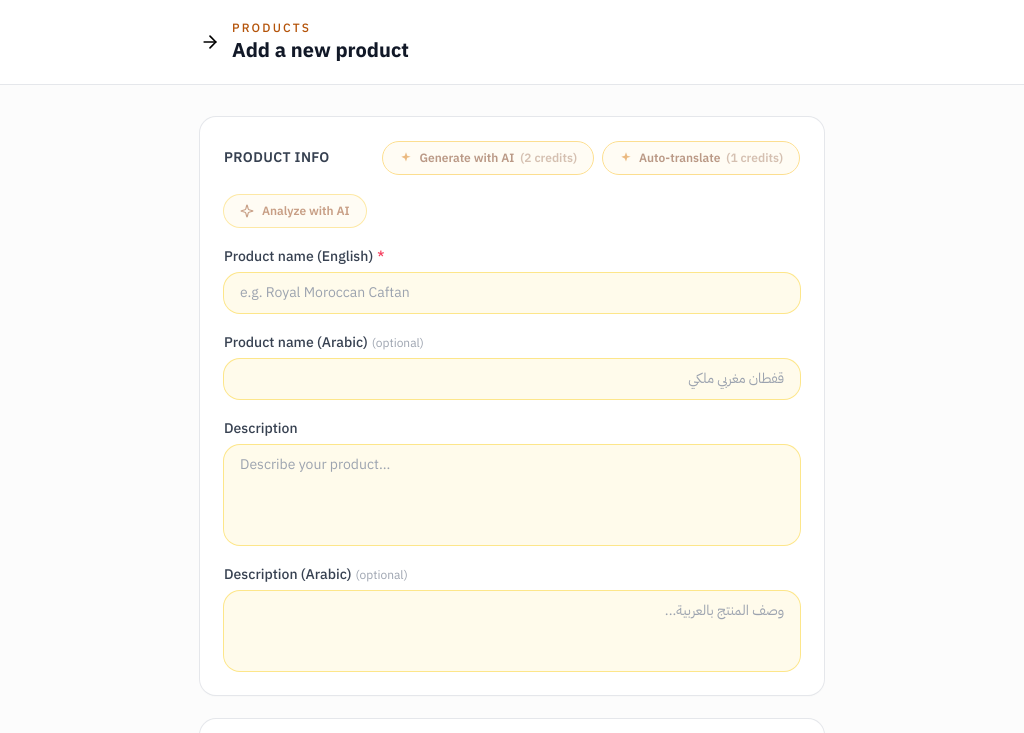
Test case: SellerNewProductPage — AI features › discards generated content when Discard is clicked
In the field labelled "Product name (English)*": (512, 293) [224,273,800,313], type "My Original Name"
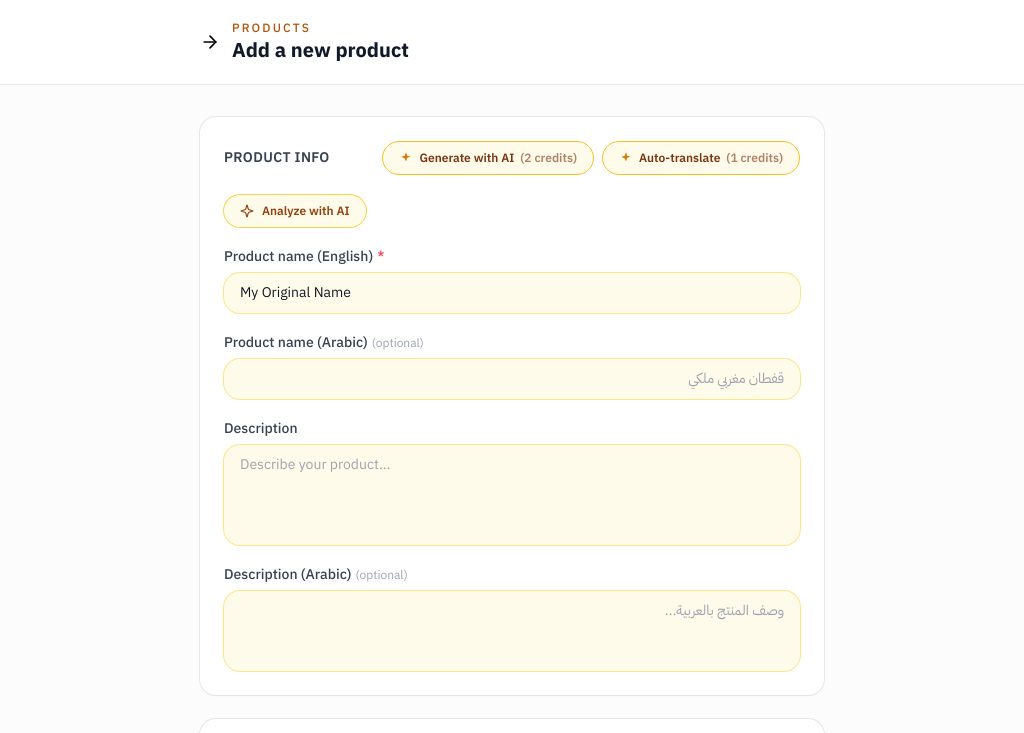
Click the button "Generate with AI (2 credits)": (488, 158) [382,141,594,175]
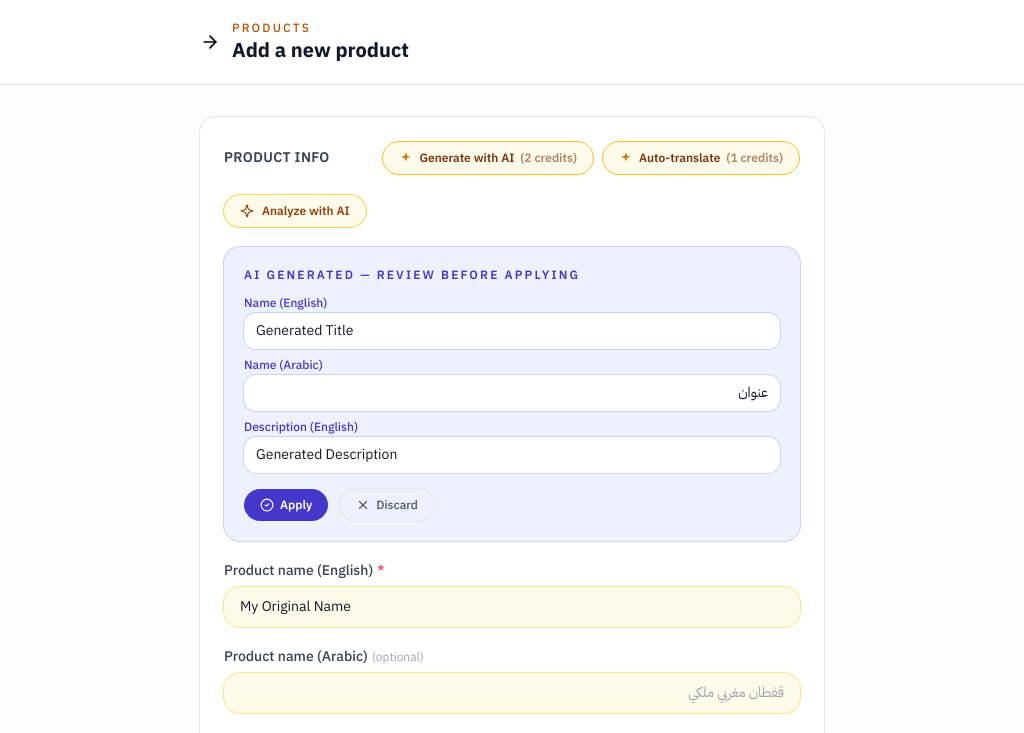
Expected: the text "Generated Title" is shown, [244,313,780,349]
Note: Click Discard
Click the button "Discard": (387, 505) [340,489,434,521]
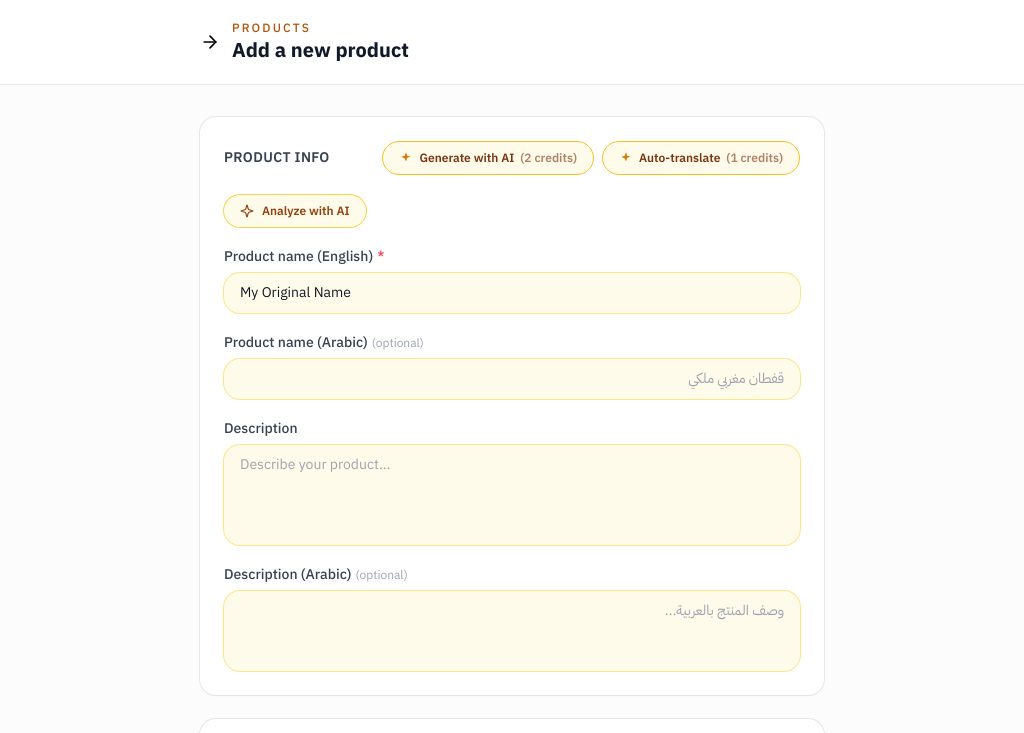
Expected: the text "Generated Title" is gone
